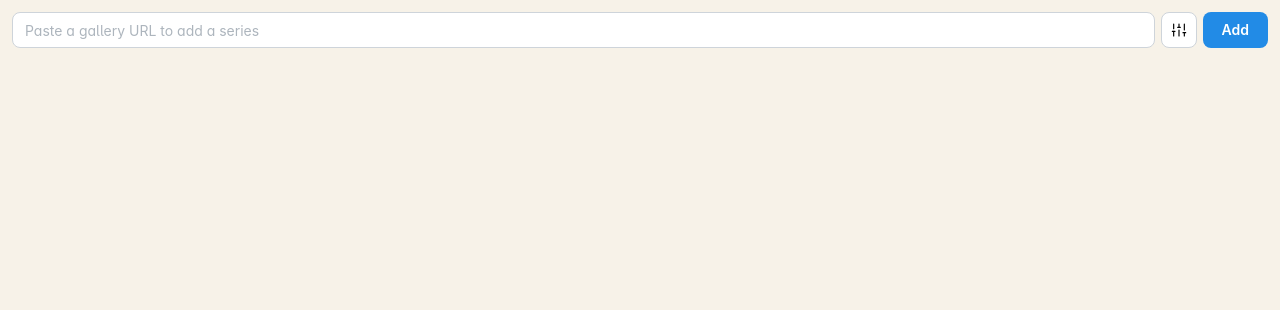
it: AddSeriesBar › adds a URL with the configured defaults
Later steps or results of the test are not shown.
Note: Wait for the default output dir to seed from config.
What coordinates should you click on to do the following:
click the button named "Download options"
I would click on:
 (1178, 30)
Its box is x1=1160 y1=12 x2=1196 y2=48.
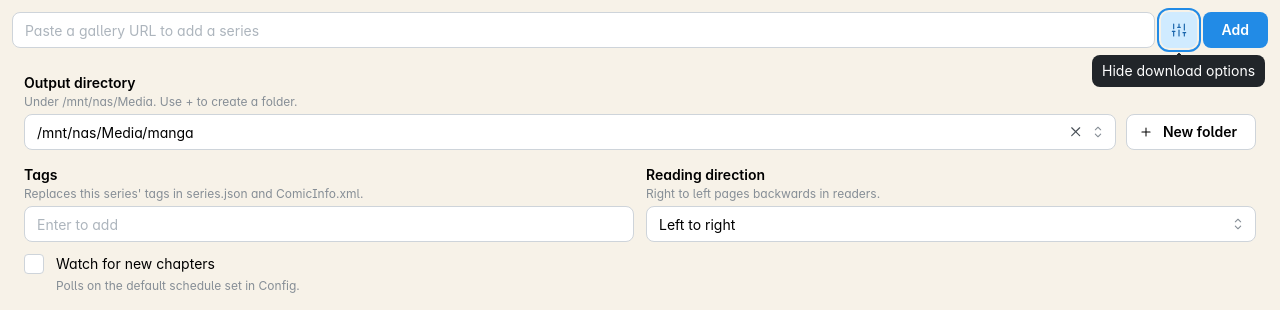
Expected: the dropdown labelled "Output directory" holds "/mnt/nas/Media/manga", x1=24 y1=114 x2=1116 y2=150
